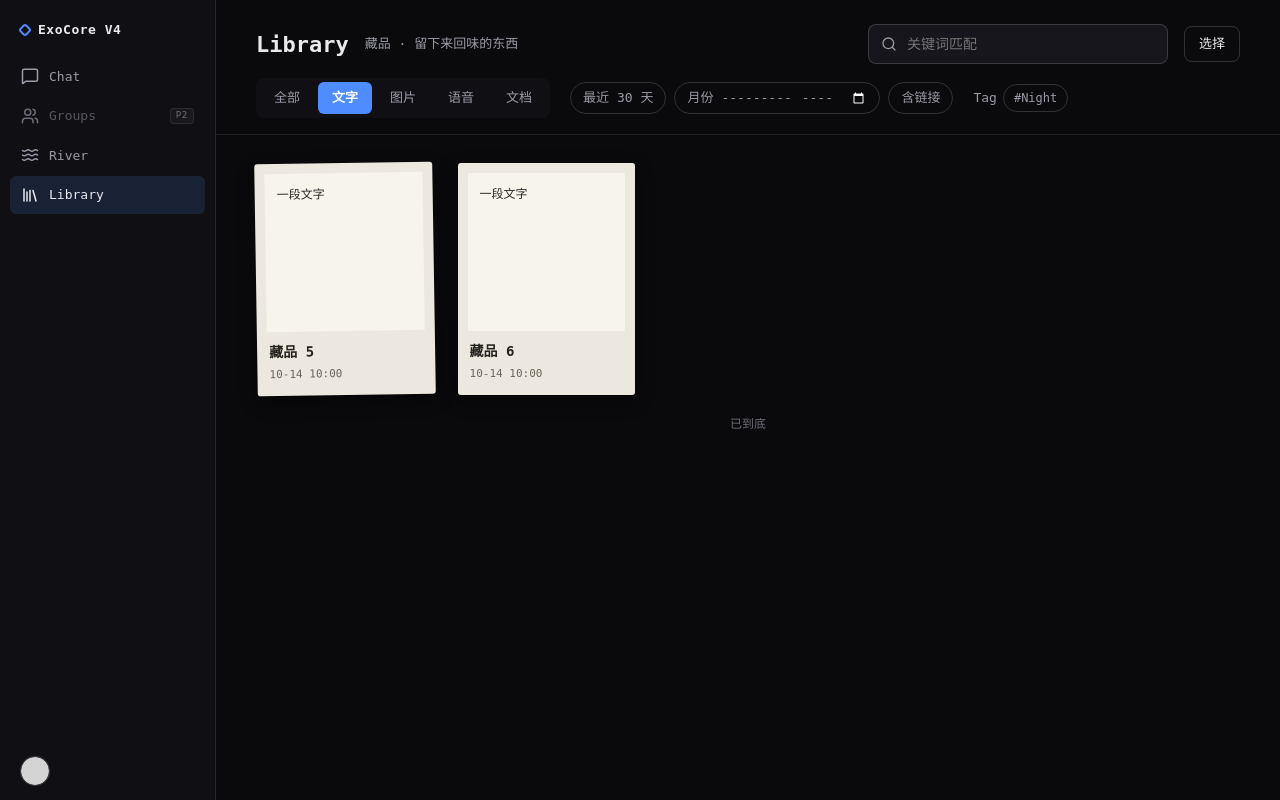
Test: Library expanded detail (UI-C1) › opens from the wall over the mounted wall and closes back to the same filters
The image size is (1280, 800).
Click the link "藏品 5" at (292, 351), box [269,343,314,360]
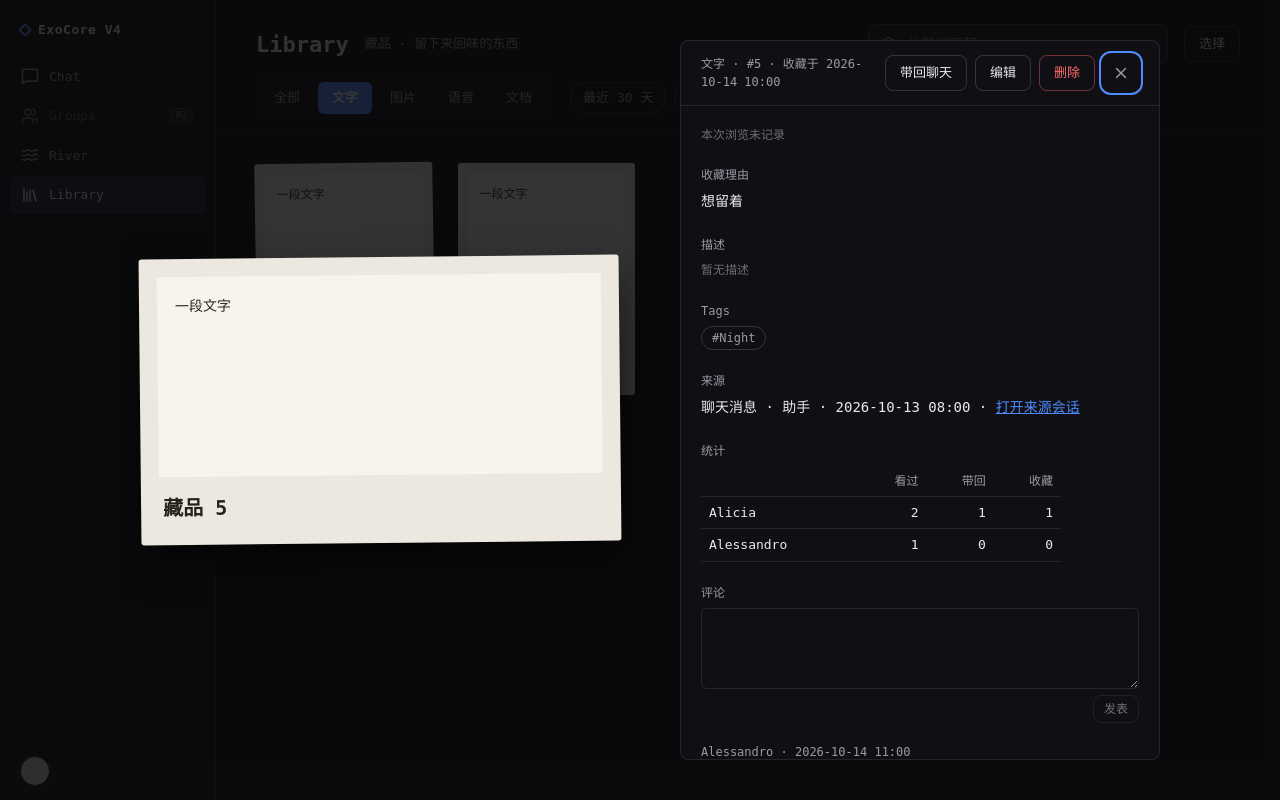
Result: the text "想留着" is shown at [701,193,743,209]
Result: the text "暂无描述" is shown at [701,263,749,277]
Result: the text "#Night" is shown at [701,326,766,350]
Click the button named "关闭" at (1121, 73), box [1103,55,1139,91]
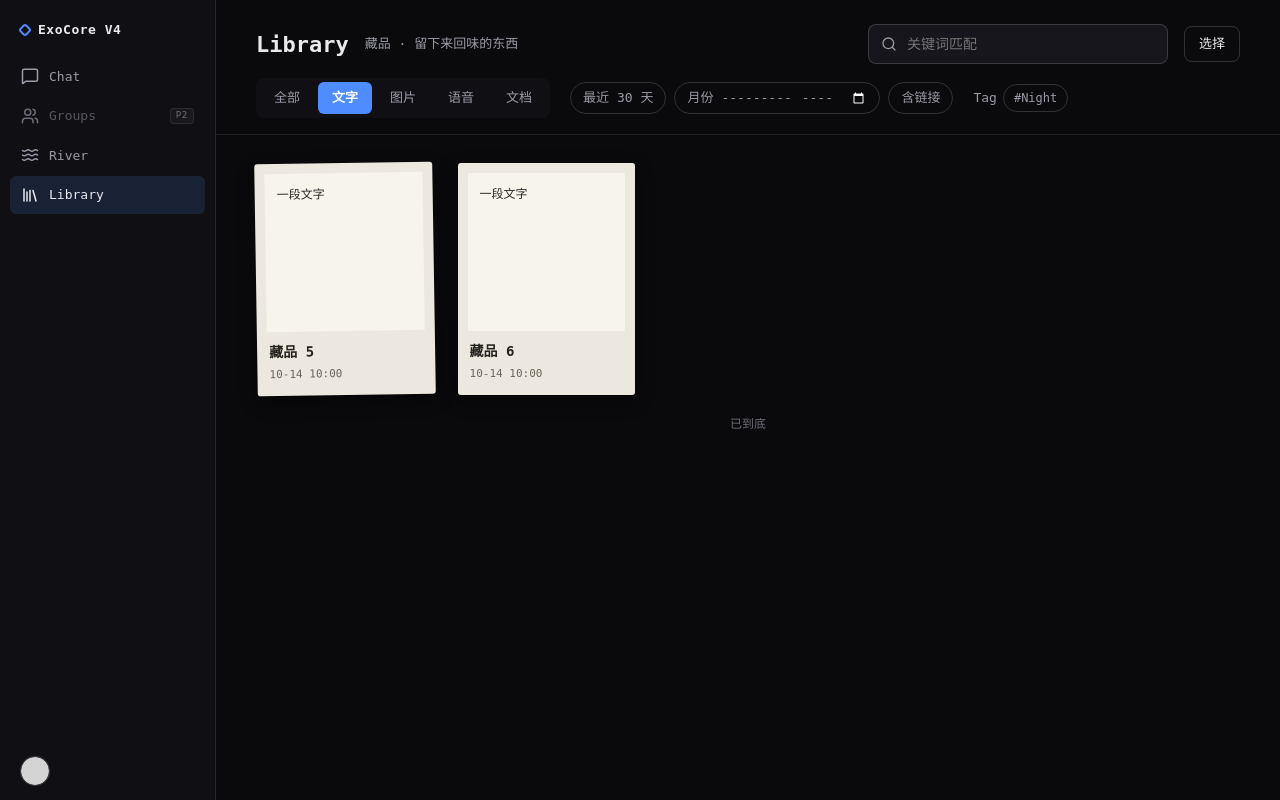
Result: the dialog is gone
